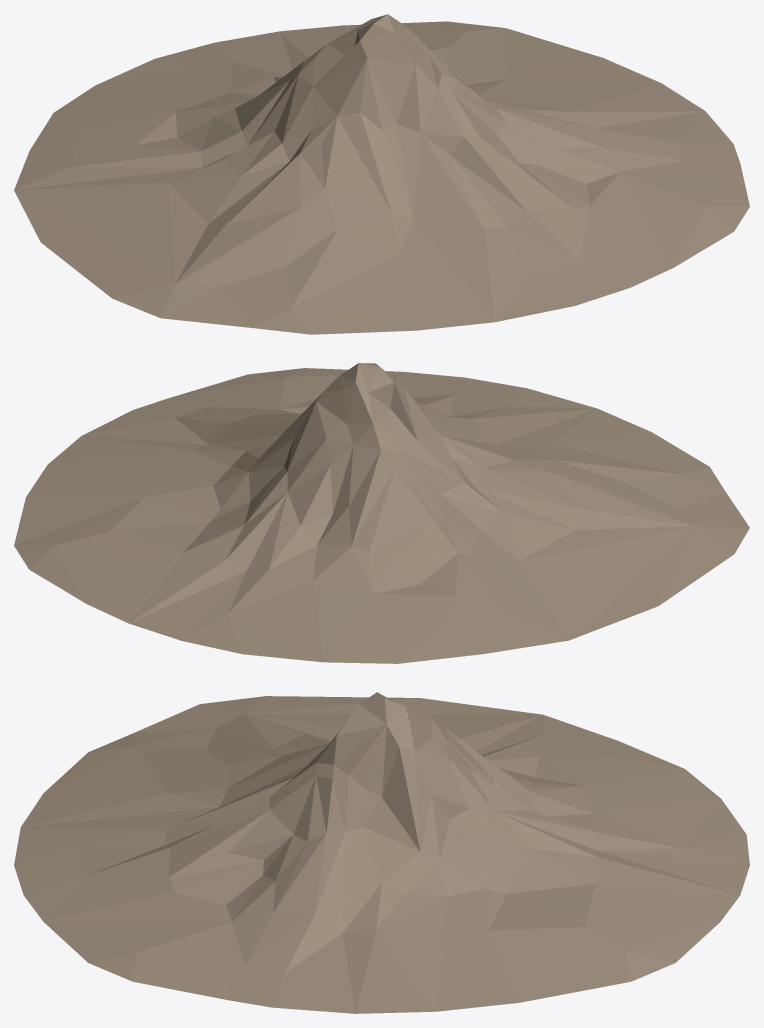
Rendered from SM_Env_Dirt_Pile_02.fbx.
The picture shows the model from 3 angles, top to bottom: view 1: azimuth 30°, elevation 25°; view 2: azimuth 150°, elevation 25°; view 3: azimuth 270°, elevation 25°; orthographic projection. The views are drawn at different scales.
Parts seen in each view (by area): view 1: SM_Env_Dirt_Pile_02; view 2: SM_Env_Dirt_Pile_02; view 3: SM_Env_Dirt_Pile_02.
Part boxes in pixels (x1=…): SM_Env_Dirt_Pile_02: x1=14, y1=14, x2=749, y2=334; SM_Env_Dirt_Pile_02: x1=14, y1=363, x2=749, y2=663; SM_Env_Dirt_Pile_02: x1=14, y1=692, x2=749, y2=1013.
Size of the model in its own units: 2052 by 494 by 2008.
